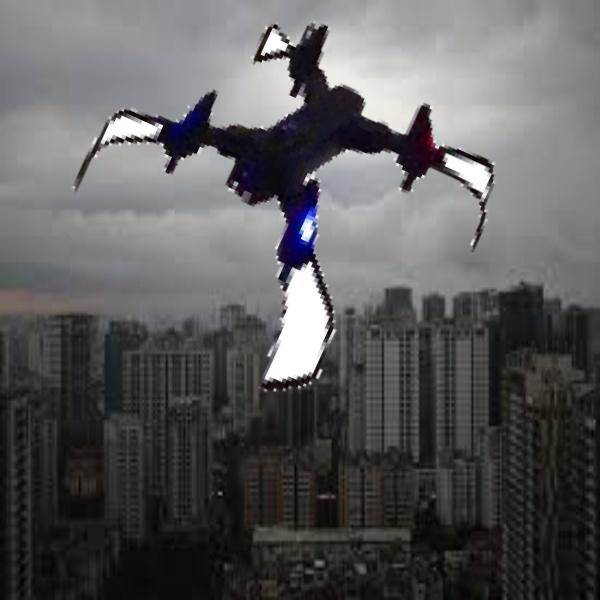drone: (63, 3, 483, 423)
